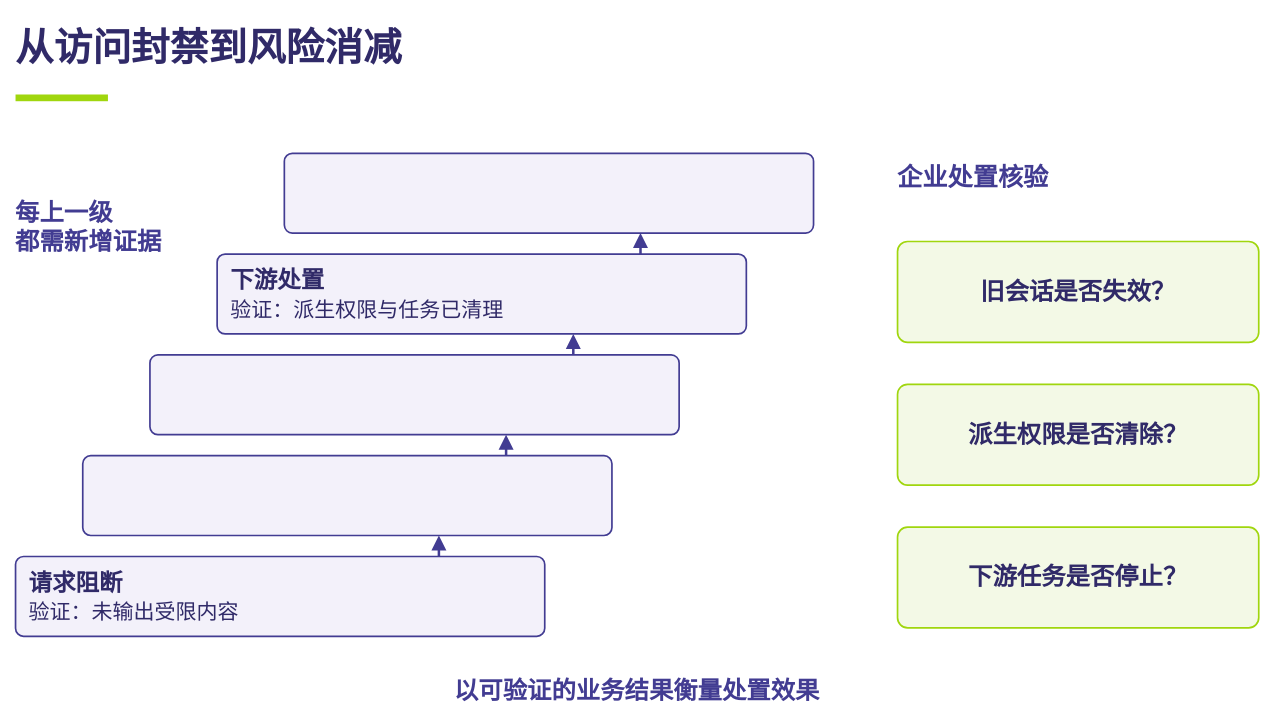
Image size: 1273x726. Some labels were removed from this diagram. Here are the shapes that lost their labels. From the top down, the centre of each, then its label:
At [548,193]: "损害减少 验证：业务损失与暴露范围下降".
At [414,394]: "复发治理 验证：观察期内重复访问受控".
At [346,495]: "访问撤销 验证：旧会话与令牌已失效".
